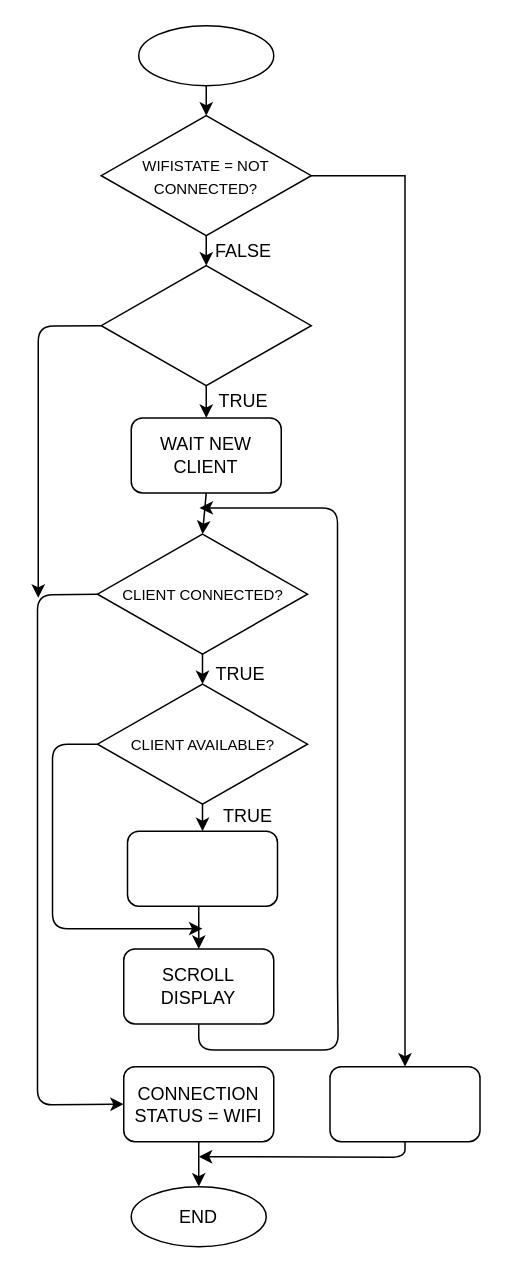
This 506x1274 diagram has some shape labels left out. Here are the shapes that lost their labels. From the top down, the centre of each, then its label:
the point at 205,55: START
the point at 205,325: NEW CLIENT?
the point at 202,868: READ REQUEST DATA
the point at 404,1103: CONNECTION STATUS = NCON
